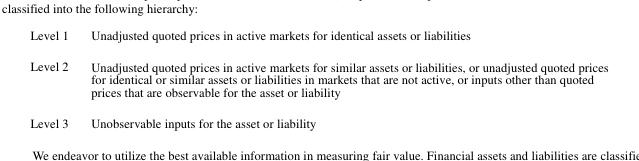table: (29, 28, 607, 130)
table column: (78, 28, 607, 130), (29, 28, 78, 130)
table row: (29, 51, 607, 108), (29, 28, 607, 51), (29, 108, 607, 130)
